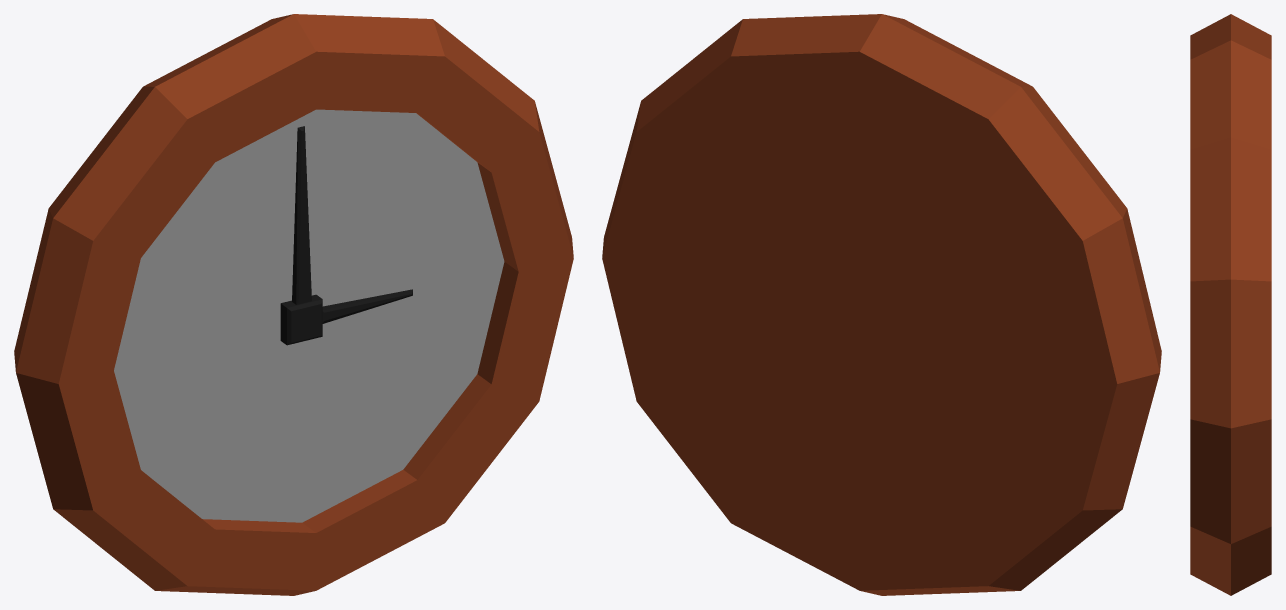
File: hh_wall_clock.glb
3 renders of one model, left to right at view 1: azimuth 30°, elevation 25°; view 2: azimuth 150°, elevation 25°; view 3: azimuth 270°, elevation 25°, orthographic. The views are drawn at different scales.
Visible parts, largest first — view 1: Clock; view 2: Clock; view 3: Clock.
Part boxes in pixels (x1,y1,x2,y2): Clock: [14, 14, 573, 595]; Clock: [602, 14, 1161, 595]; Clock: [1190, 14, 1271, 595].
Size of the model in its own units: 0.3504 by 0.3504 by 0.0486.
